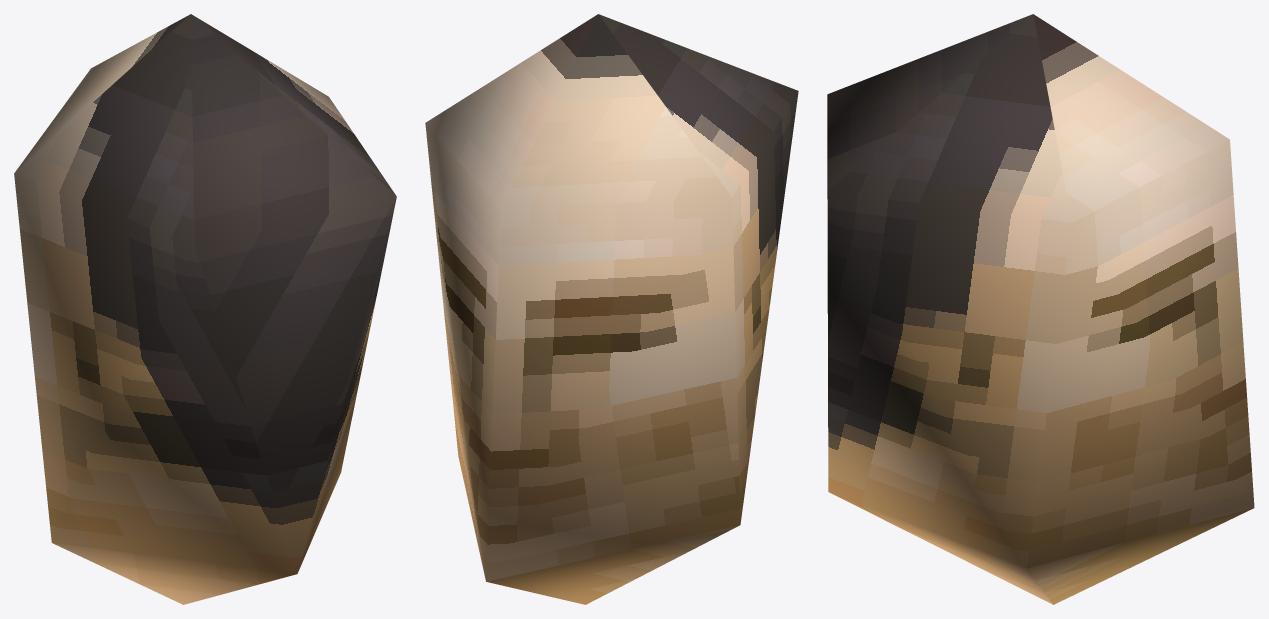
Rendered from infantry_e_spearman_head_standard.glb.
The picture shows the model from 3 angles, left to right: view 1: azimuth 30°, elevation 25°; view 2: azimuth 150°, elevation 25°; view 3: azimuth 270°, elevation 25°; orthographic projection. The views are drawn at different scales.
Parts seen in each view (by area): view 1: MeshRoot; view 2: MeshRoot; view 3: MeshRoot.
Part boxes in pixels (bbox=[...]): MeshRoot: bbox=[14, 14, 396, 604]; MeshRoot: bbox=[425, 14, 798, 604]; MeshRoot: bbox=[827, 14, 1254, 604].
Bounding box in the file's own units: 0.1992 × 0.3623 × 0.2378.
Materials: 1 (1 with a texture image).
